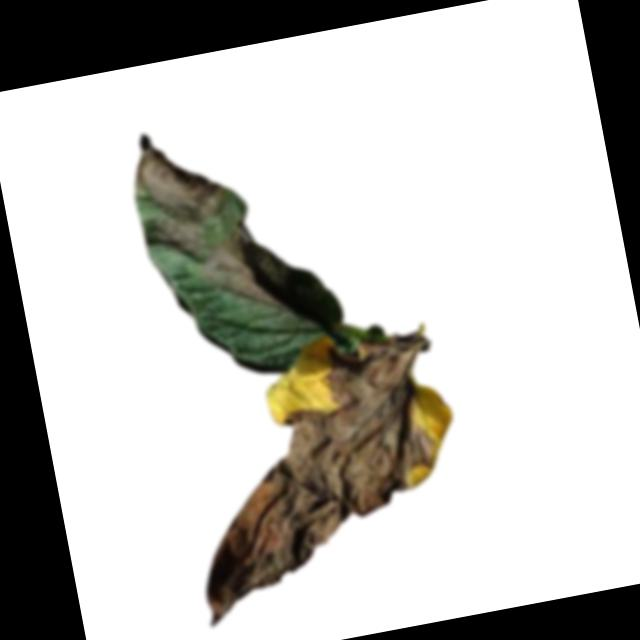Late_blight: (162, 321, 469, 629), (124, 122, 236, 259), (196, 216, 281, 326)
